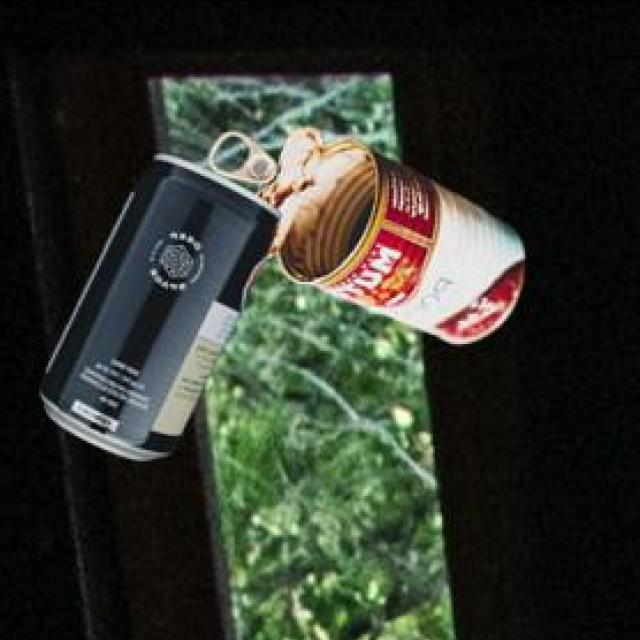logam: (38, 151, 277, 455), (206, 123, 521, 340)
